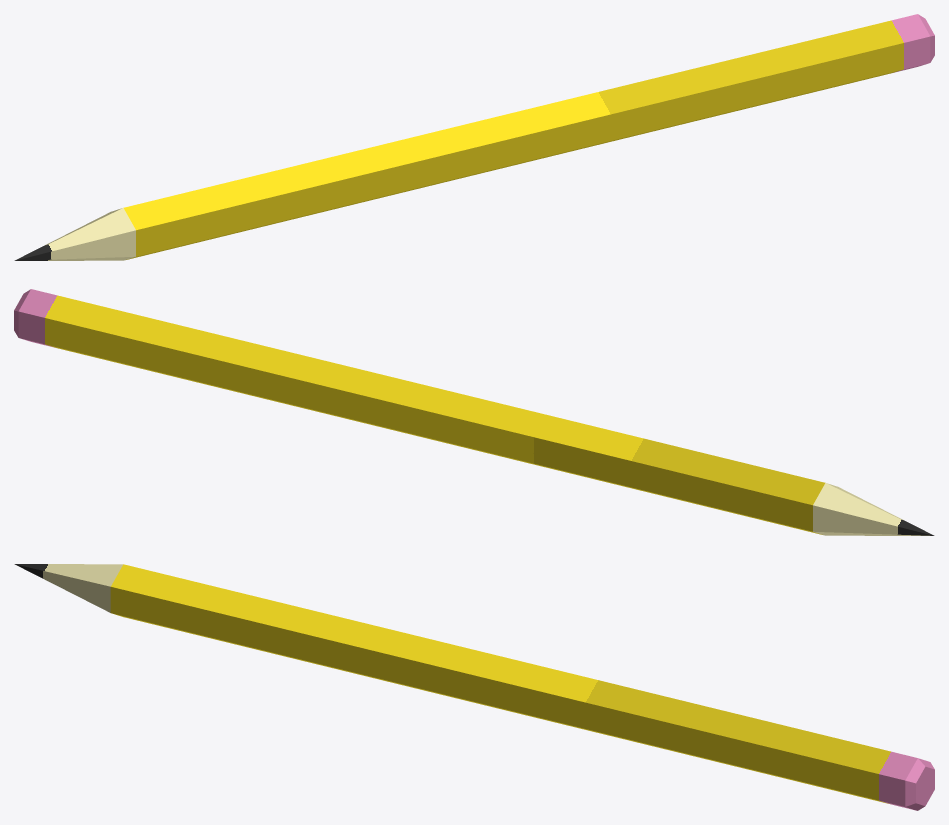
Rendered from pencil2.fbx.
The picture shows the model from 3 angles, top to bottom: view 1: azimuth 30°, elevation 25°; view 2: azimuth 150°, elevation 25°; view 3: azimuth 330°, elevation 25°; orthographic projection.
Visible parts, largest first — view 1: pencil2; view 2: pencil2; view 3: pencil2.
Part boxes in pixels (x1=…): pencil2: x1=14, y1=14, x2=934, y2=260; pencil2: x1=14, y1=289, x2=934, y2=535; pencil2: x1=14, y1=564, x2=934, y2=810.
Bounding box in the file's own units: 7.29 × 0.4041 × 0.35.
Materials: 1 (1 with a texture image).
